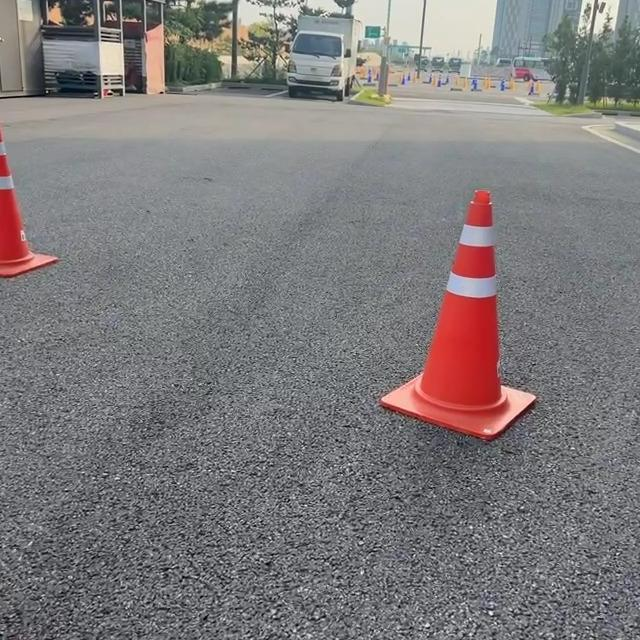fallen_object: (327, 157, 610, 467), (0, 136, 75, 289)
